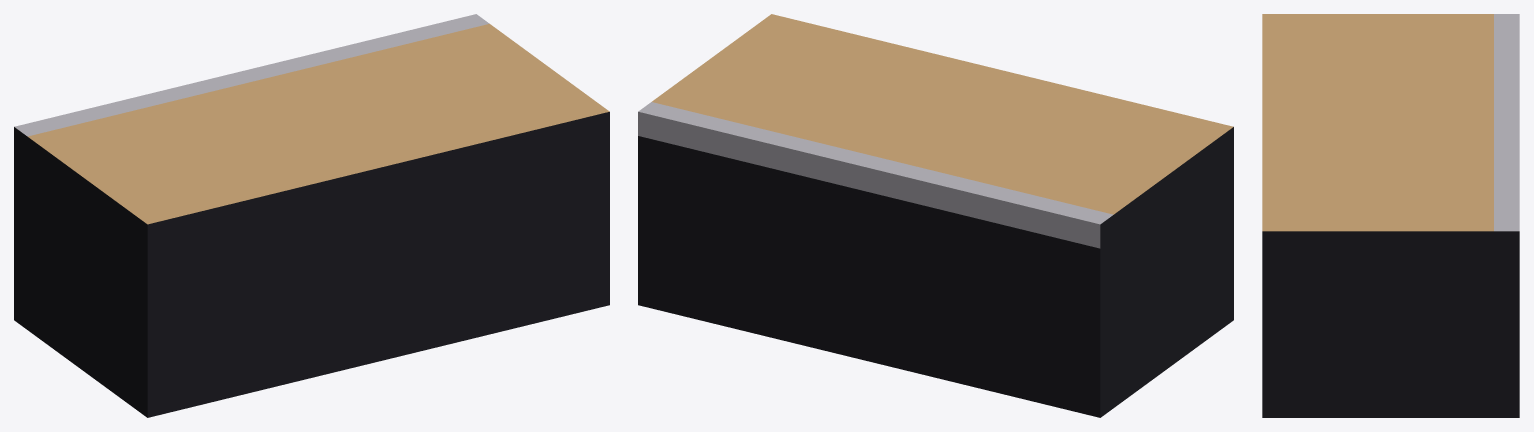
Rendered from ManPad_Half_4_OneGrind.fbx.
3 views of the same model, side by side, from view 1: azimuth 30°, elevation 25°; view 2: azimuth 150°, elevation 25°; view 3: azimuth 270°, elevation 25° (orthographic). The views are drawn at different scales.
Parts seen in each view (by area): view 1: ManPad_Half_4_OneGrind; view 2: ManPad_Half_4_OneGrind; view 3: ManPad_Half_4_OneGrind.
Part boxes in pixels (<box>): ManPad_Half_4_OneGrind: <box>14,14,609,417</box>; ManPad_Half_4_OneGrind: <box>638,14,1233,417</box>; ManPad_Half_4_OneGrind: <box>1262,14,1519,417</box>.
Bounding box in the file's own units: 10 × 4 × 5.
